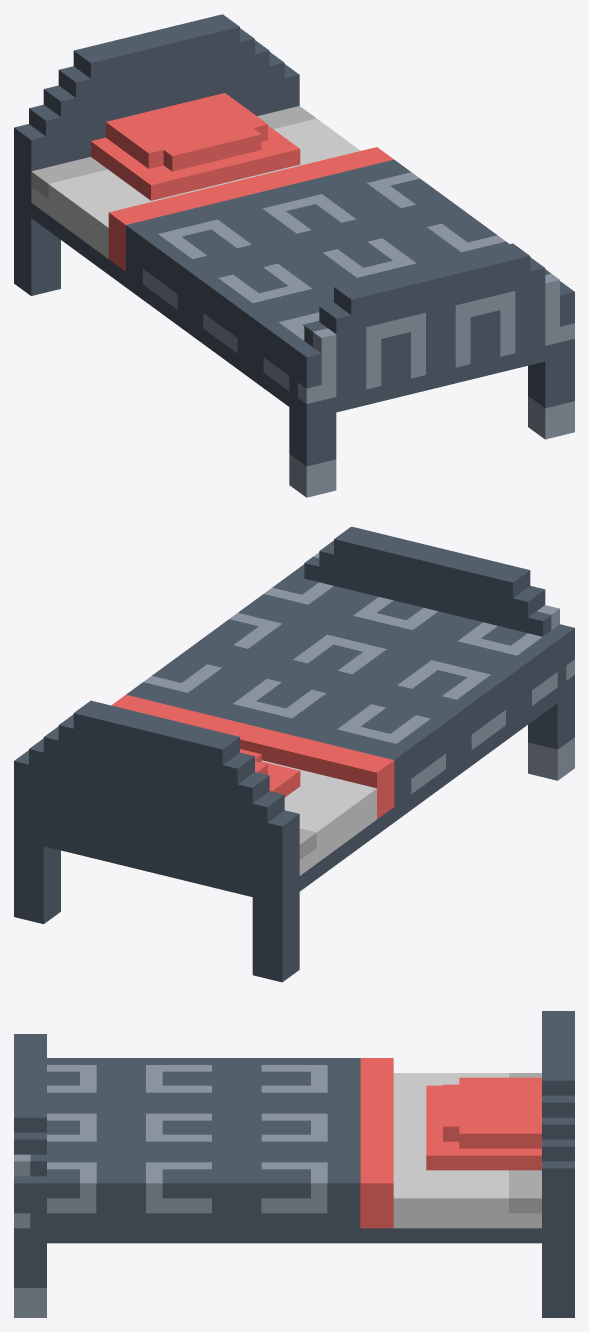
Rendered from bed 2.obj.
The picture shows the model from 3 angles, top to bottom: view 1: azimuth 30°, elevation 25°; view 2: azimuth 150°, elevation 25°; view 3: azimuth 270°, elevation 25°; orthographic projection. The views are drawn at different scales.
Visible parts, largest first — view 1: bed 2; view 2: bed 2; view 3: bed 2.
Boxes of the visible parts, x1,y1,x2,y2 form: bed 2: [14, 14, 574, 497]; bed 2: [14, 526, 574, 982]; bed 2: [14, 1011, 574, 1317].
Bounding box in the file's own units: 18 × 14 × 34.
1 material, 1 textured.
